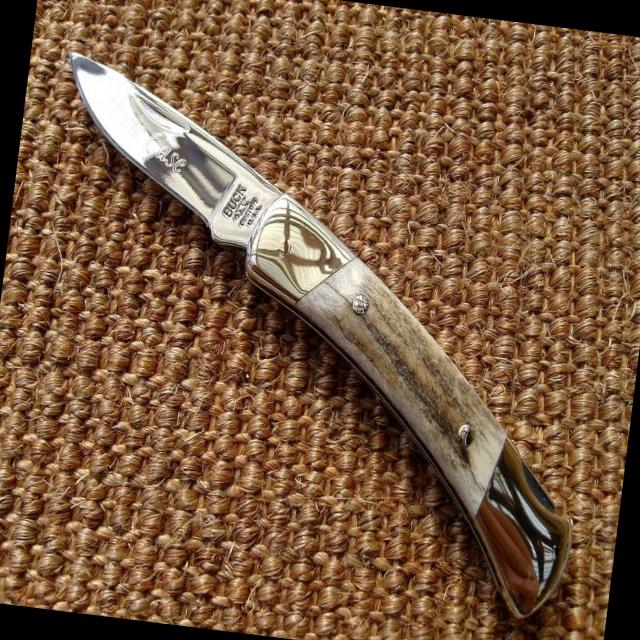Knife: (70, 54, 569, 616)
